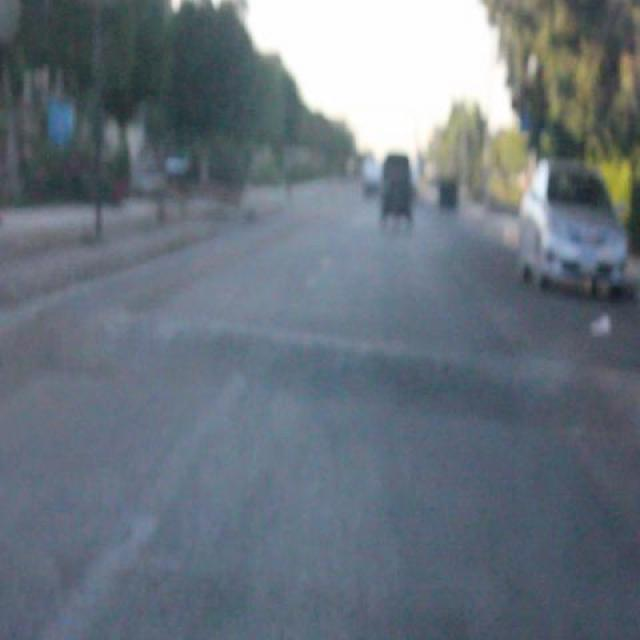Unmarked Bump: (0, 310, 640, 440)
